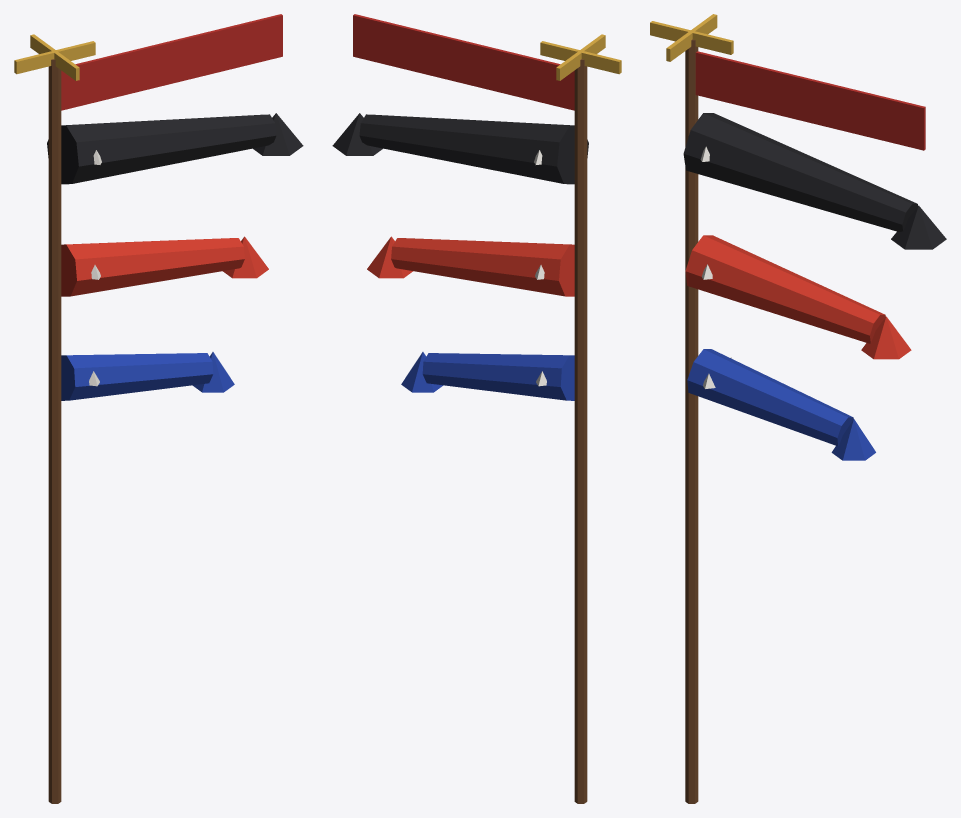
File: koinobori.glb
The picture shows the model from 3 angles, left to right: view 1: azimuth 30°, elevation 25°; view 2: azimuth 150°, elevation 25°; view 3: azimuth 330°, elevation 25°; orthographic projection. The views are drawn at different scales.
Parts seen in each view (by area): view 1: koinobori; view 2: koinobori; view 3: koinobori.
Part boxes in pixels (x1=…): koinobori: x1=14, y1=14, x2=303, y2=803; koinobori: x1=332, y1=14, x2=621, y2=803; koinobori: x1=650, y1=14, x2=946, y2=803.
Size of the model in its own units: 3.56 by 9.07 by 1.
